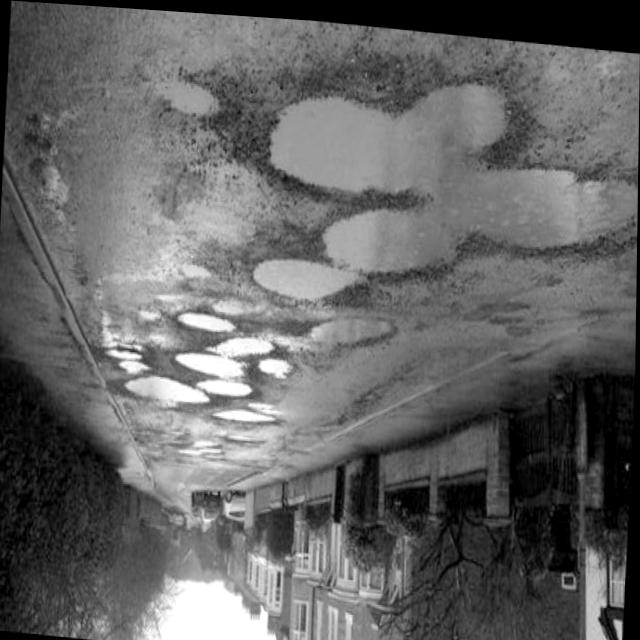pathole: (80, 5, 640, 506)
